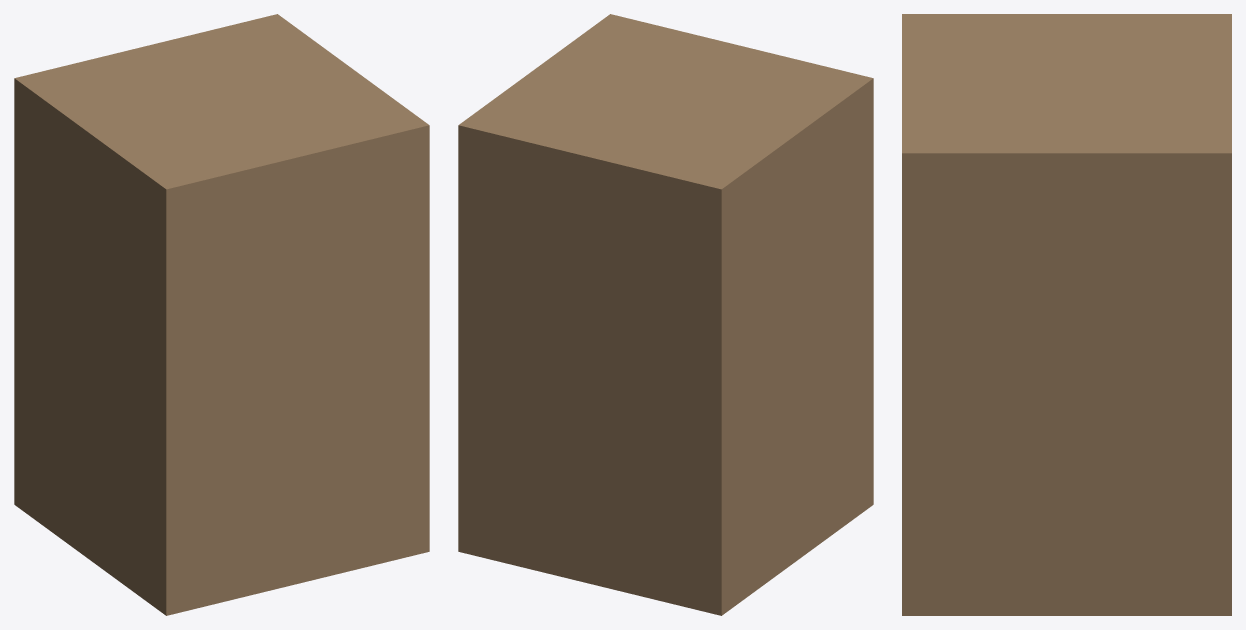
The model's file is crate_tall.glb.
3 renders of one model, left to right at view 1: azimuth 30°, elevation 25°; view 2: azimuth 150°, elevation 25°; view 3: azimuth 270°, elevation 25°, orthographic. The views are drawn at different scales.
Visible parts, largest first — view 1: world; view 2: world; view 3: world.
Part boxes in pixels (left/top/right/bottom): world: left=14, top=14, right=429, bottom=615; world: left=458, top=14, right=873, bottom=615; world: left=902, top=14, right=1231, bottom=615.
Bounding box in the file's own units: 1.55 × 2.4 × 1.55.
